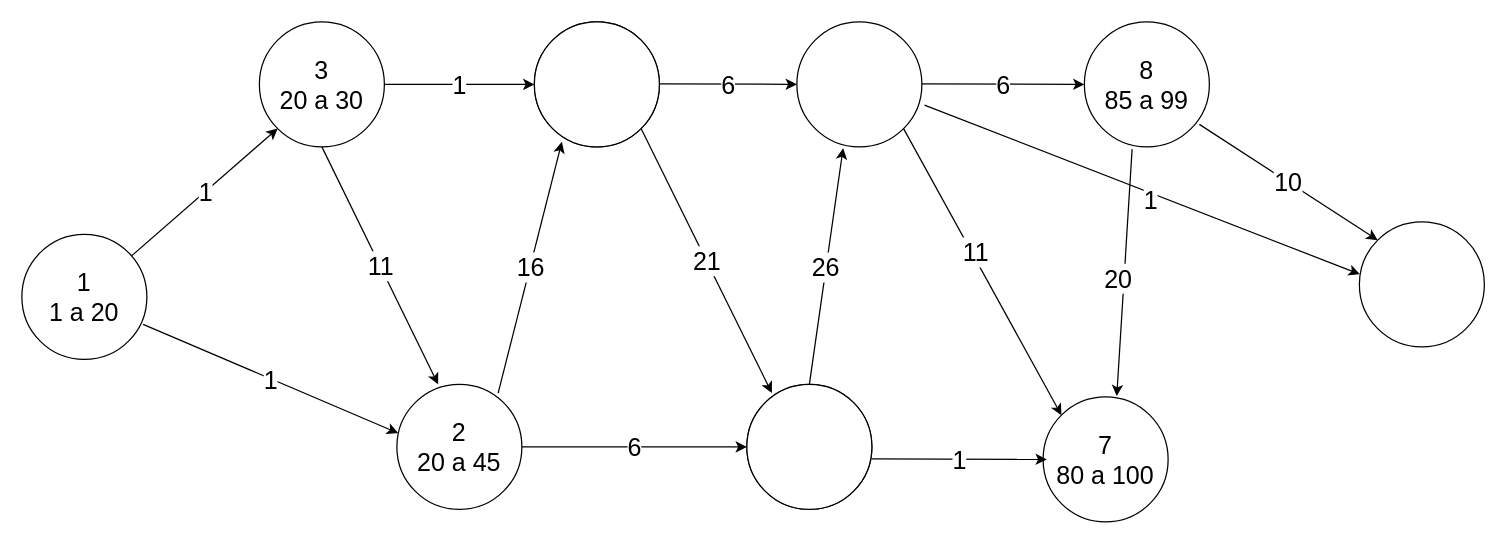
The diagram is 1506 pixels wide and 544 high, and some of its shapes have lost their labels. The shapes that lost their labels are listed below. From the top down, each one's centre as x and y in pixels, then its label:
At point 596,84: "4 30 a 60".
At point 859,84: "6 55 a 90".
At point 1421,284: "9 90 a 100".
At point 809,446: "5 40 a 80".
